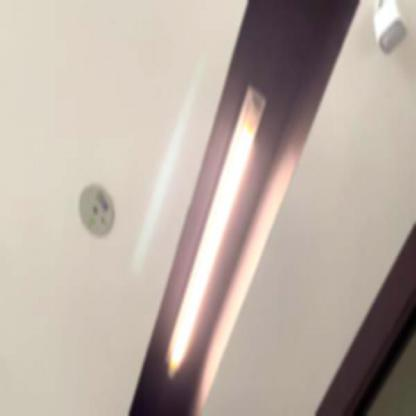light_on: (162, 75, 272, 384)
